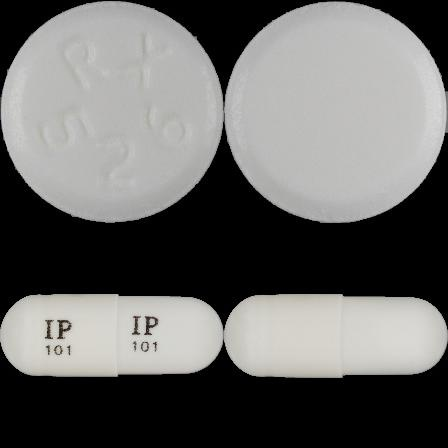0904-6074: (0, 0, 224, 224)
